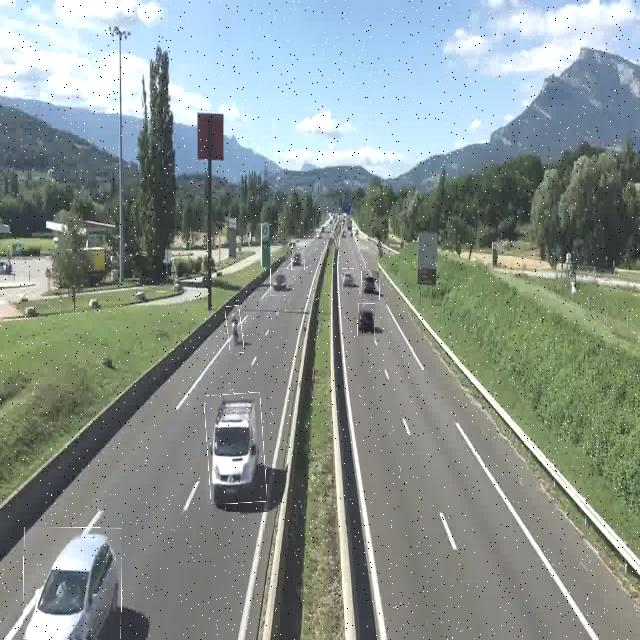Car: (23, 527, 122, 640), (361, 272, 380, 302), (358, 303, 375, 336), (270, 268, 289, 296), (292, 244, 305, 270), (342, 268, 354, 291)
Motorcycle: (227, 306, 243, 353)
Truck: (206, 393, 266, 504)
